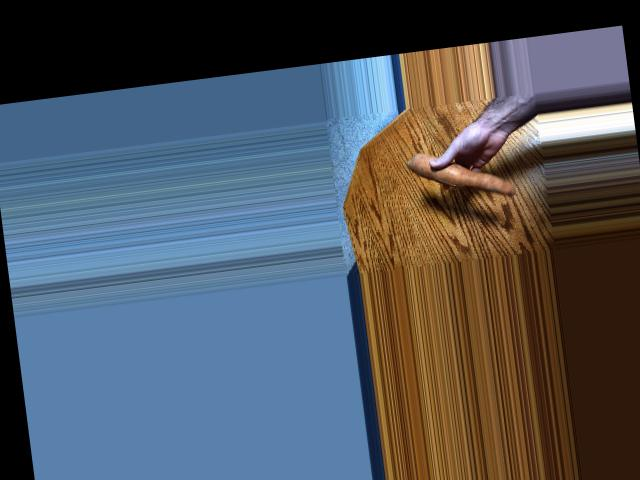sweet_potato: (403, 153, 516, 201)
